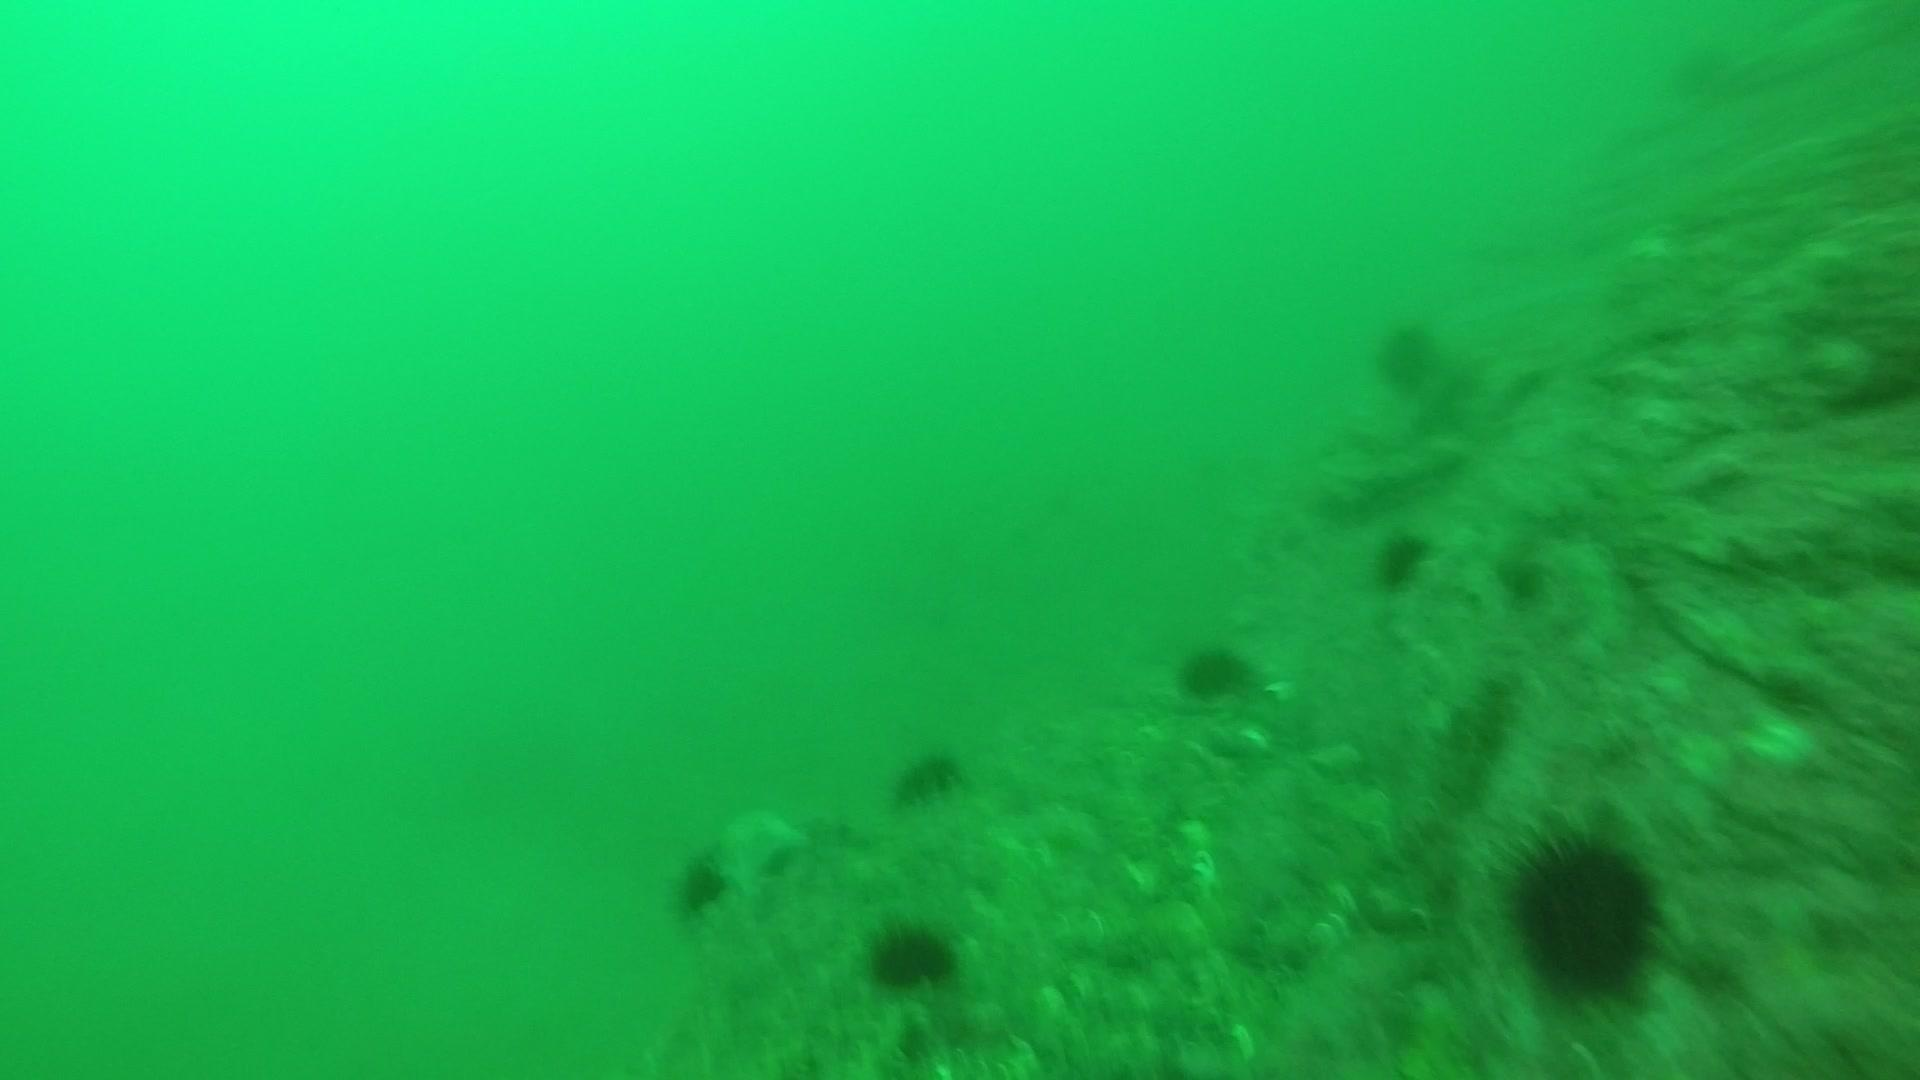echinus: (1499, 820, 1669, 1002), (862, 914, 963, 996), (1370, 314, 1447, 396), (1172, 636, 1259, 705), (889, 742, 967, 810), (1366, 525, 1433, 592), (667, 851, 733, 919), (1491, 546, 1555, 608)
starfish: (705, 803, 808, 897)
